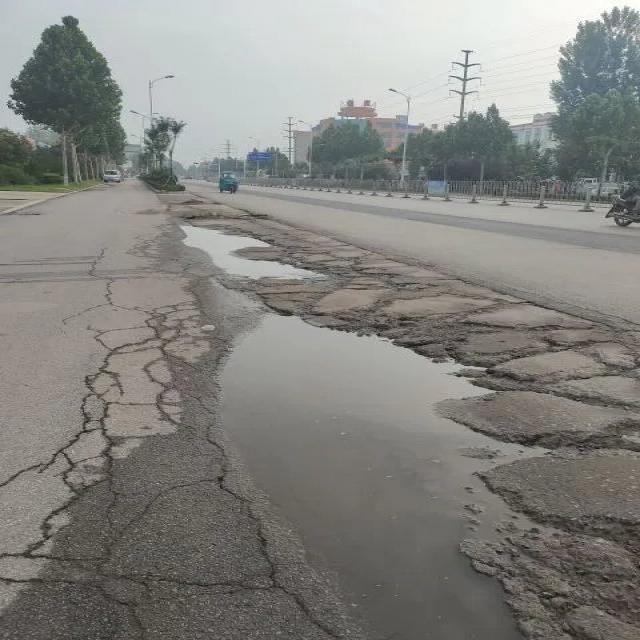Pothole: (203, 304, 593, 639), (171, 214, 349, 289)
